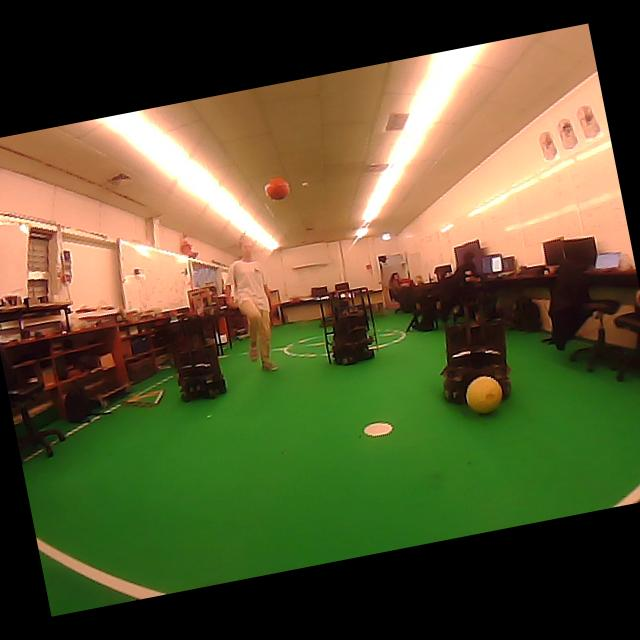ball: (466, 377, 503, 414), (263, 177, 290, 200)
robot: (441, 300, 512, 404), (171, 316, 227, 402), (330, 288, 378, 365)
